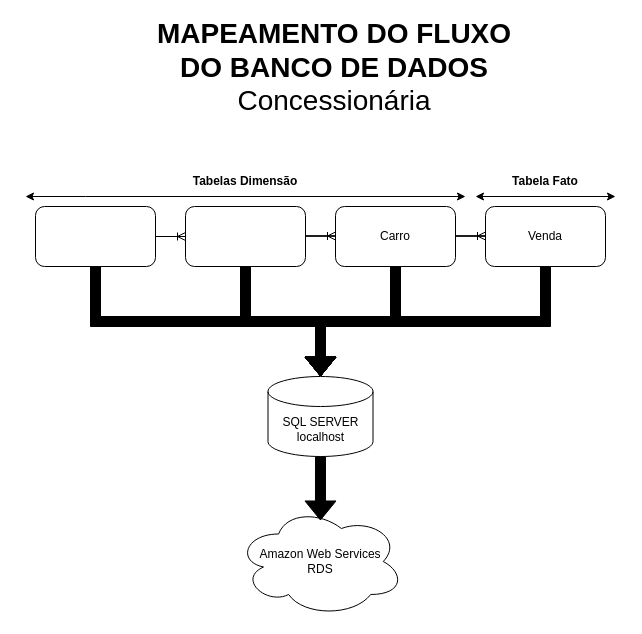
This 642x634 diagram has some shape labels left out. The shapes that lost their labels are listed below. From the top down, each one's box as (x1, y1, x2, y2) in pixels, then its label:
(34, 206, 156, 266): Marca
(184, 206, 306, 266): Modelo
